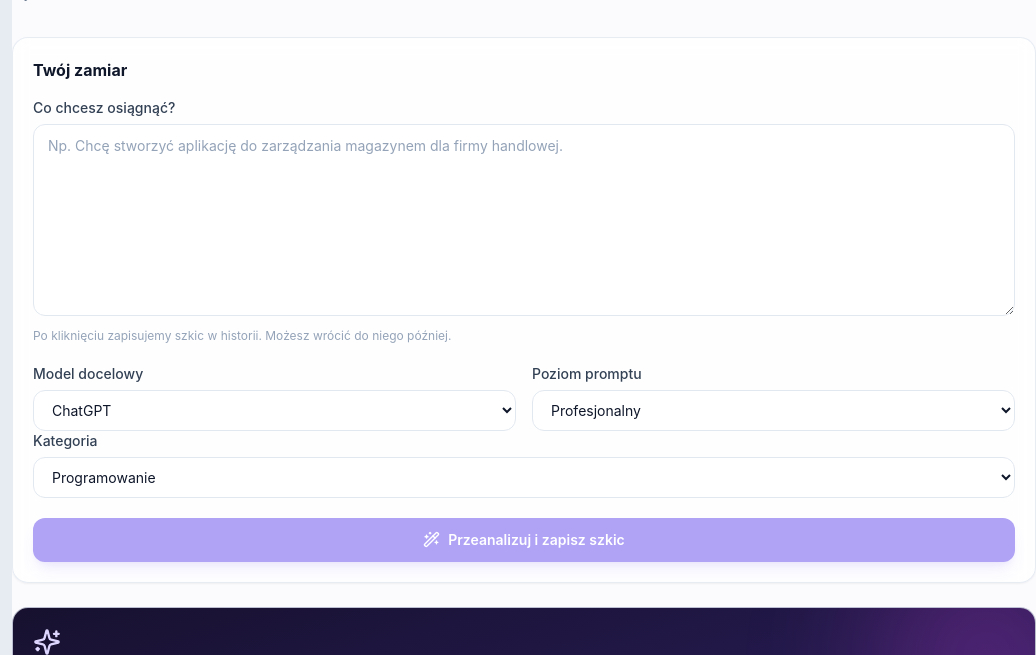
Test: workflow promptów › blokuje analizę pustego opisu i zapisuje szkic dopiero po jawnym kliknięciu
This screenshot has width=1036, height=655.
Expected: the button "Przeanalizuj i zapisz szkic" is disabled, [33, 518, 1015, 562]
Replace the text in the text box labelled "Co chcesz osiągnąć?" with "Przygotuj plan wdrożenia dla zespołu operacyjnego.": (524, 220) [33, 124, 1015, 316]
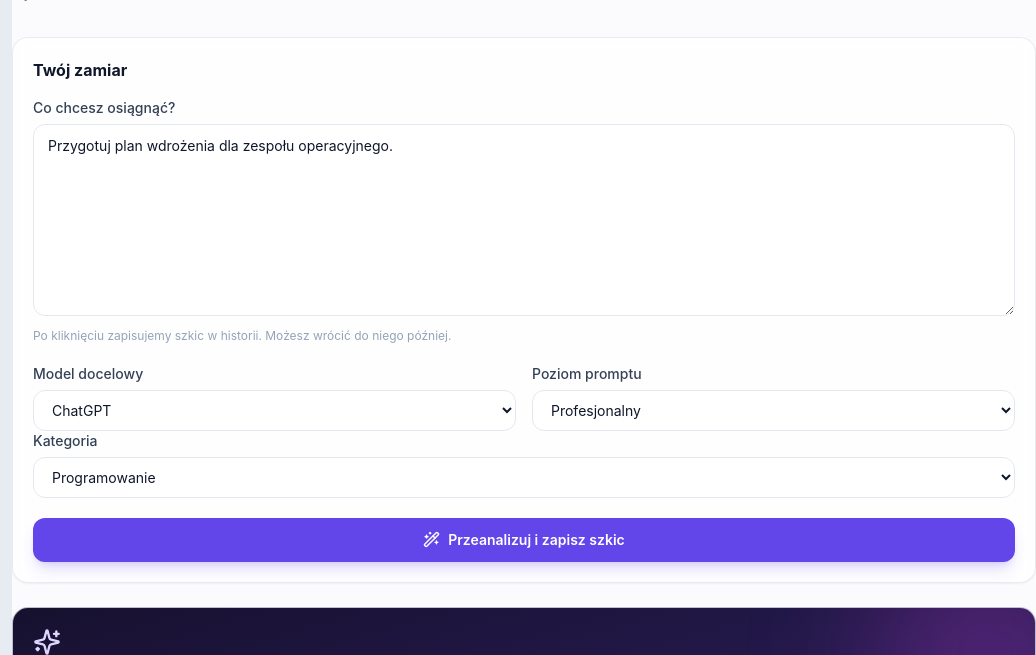
Expected: the button "Przeanalizuj i zapisz szkic" is enabled
Click the button "Przeanalizuj i zapisz szkic": (524, 540) [33, 518, 1015, 562]
(page scrolled)
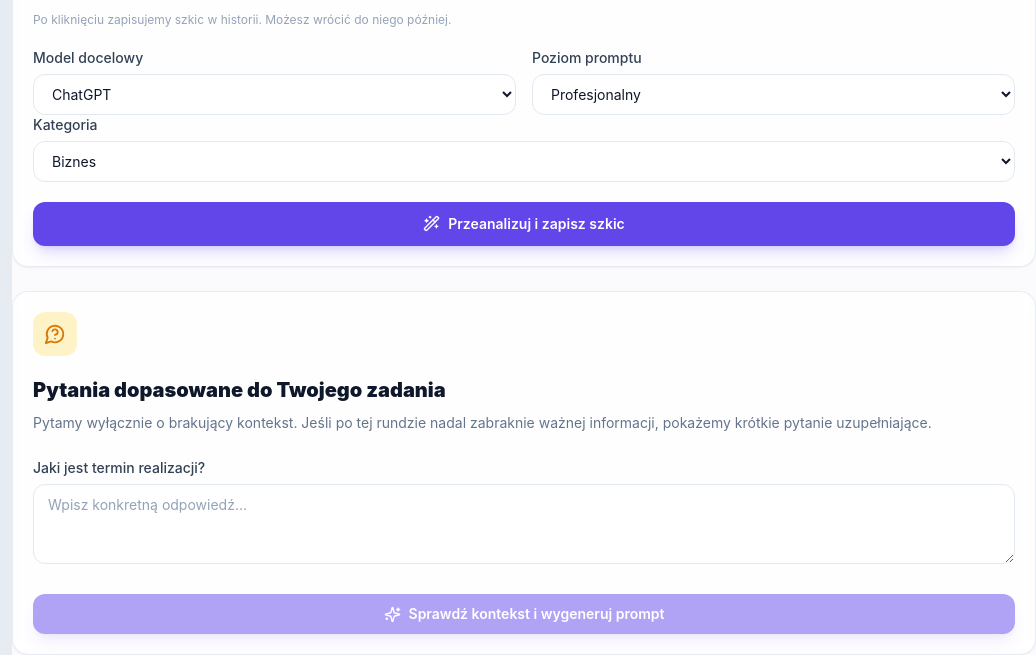
Expected: the heading "Pytania dopasowane do Twojego zadania" is shown, [33, 378, 446, 402]
